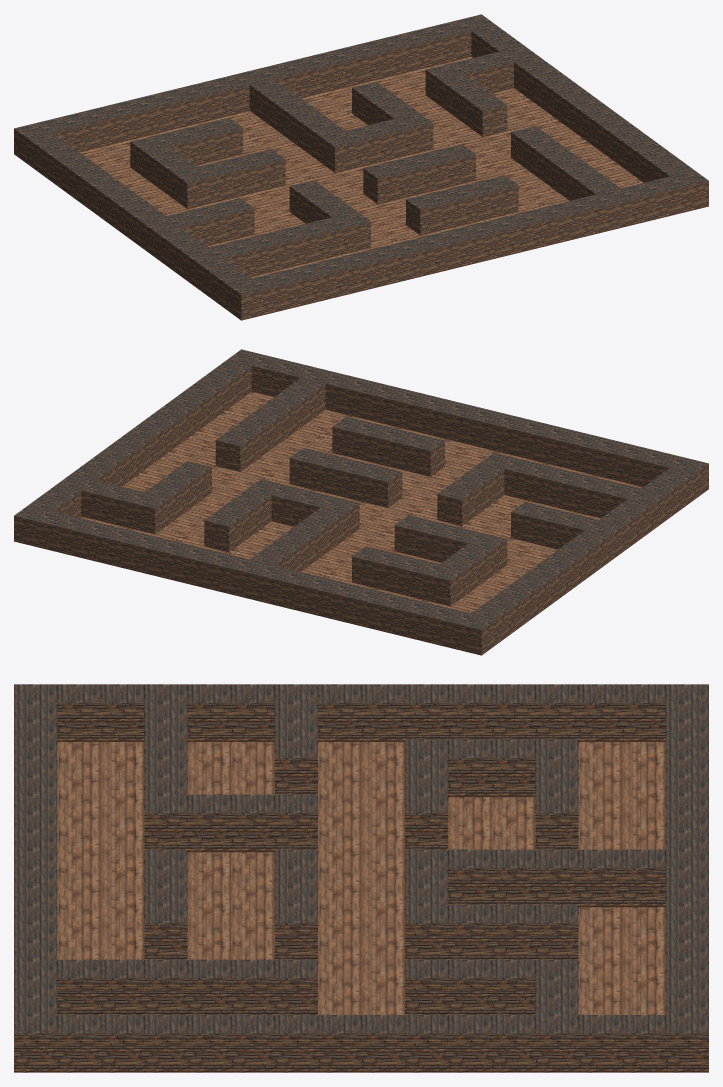
3 renders of one model, top to bottom at view 1: azimuth 30°, elevation 25°; view 2: azimuth 150°, elevation 25°; view 3: azimuth 270°, elevation 25°, orthographic. The views are drawn at different scales.
Visible parts, largest first — view 1: F01; view 2: F01; view 3: F01.
Part boxes in pixels (x1,y1,x2,y2): F01: [14, 14, 708, 320]; F01: [14, 349, 708, 655]; F01: [14, 684, 708, 1072].
Size of the model in its own units: 19 by 1 by 16.
Materials: 3 (3 with a texture image).
